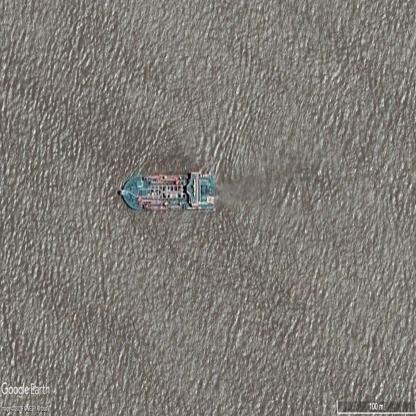ship: (119, 175, 216, 212)
